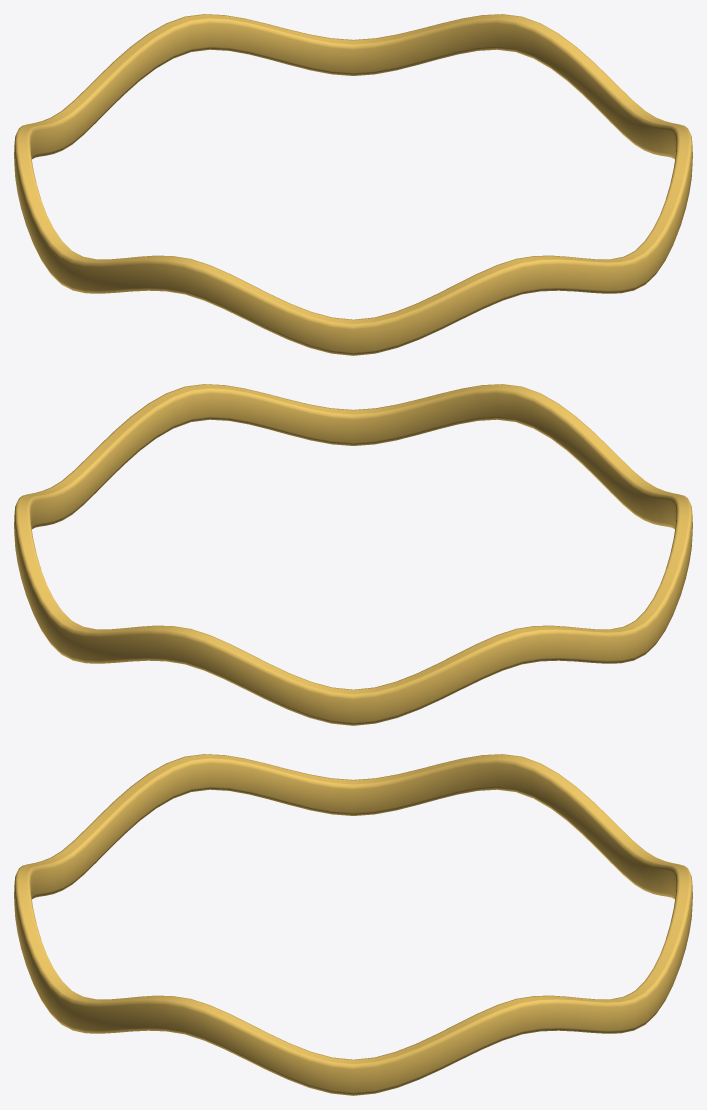
Rendered from 4-gold.fbx.
3 renders of one model, top to bottom at view 1: azimuth 30°, elevation 25°; view 2: azimuth 150°, elevation 25°; view 3: azimuth 270°, elevation 25°, orthographic.
Parts seen in each view (by area): view 1: Cylinder002; view 2: Cylinder002; view 3: Cylinder002.
Part boxes in pixels (bbox=[...]): Cylinder002: bbox=[14, 14, 692, 355]; Cylinder002: bbox=[14, 384, 692, 725]; Cylinder002: bbox=[14, 754, 692, 1095].
Bounding box in the file's own units: 19.96 × 2.38 × 19.96.
